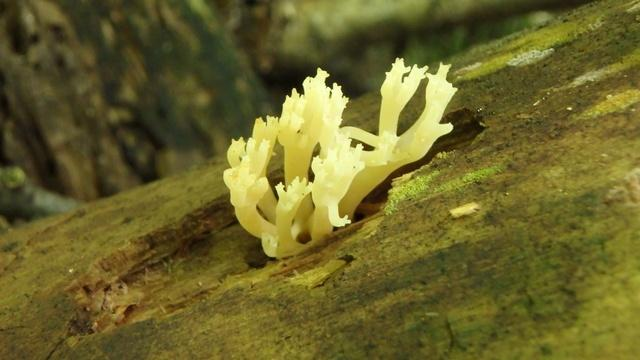Edible Mushroom: (221, 56, 458, 259)
